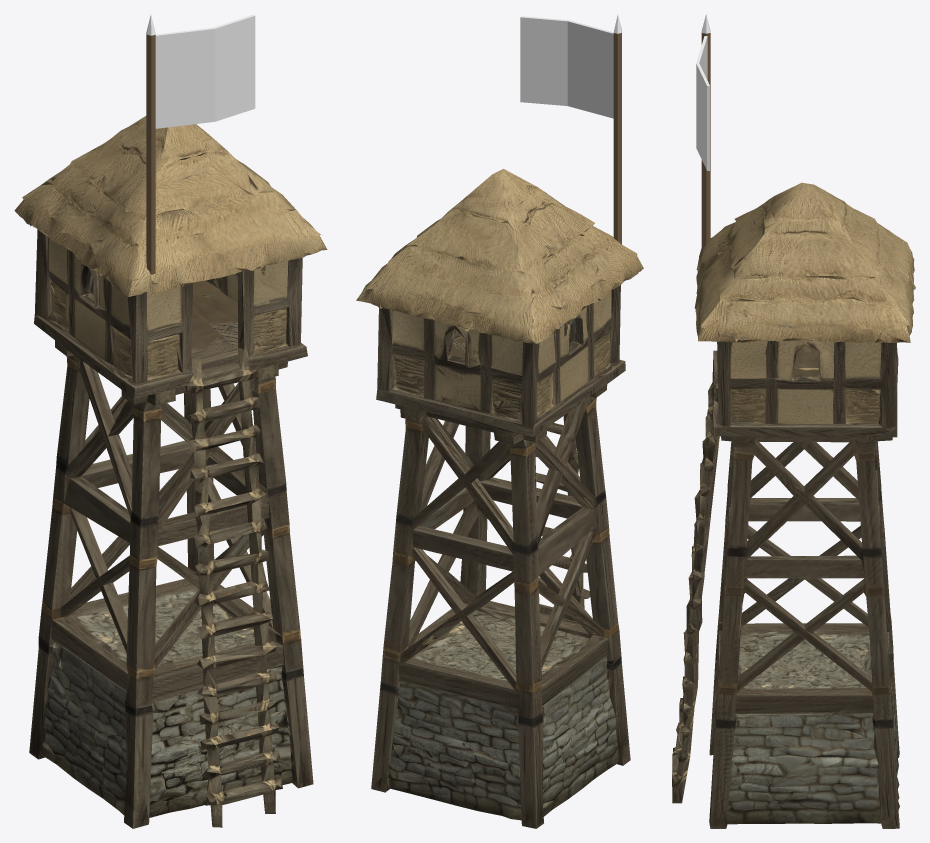
3 views of the same model, side by side, from view 1: azimuth 30°, elevation 25°; view 2: azimuth 150°, elevation 25°; view 3: azimuth 270°, elevation 25° (orthographic). The views are drawn at different scales.
Visible parts, largest first — view 1: watchtower, Team_banner; view 2: watchtower, Team_banner; view 3: watchtower, Team_banner.
Part boxes in pixels (x1,y1,x2,y2): watchtower: (14, 116, 327, 828); Team_banner: (146, 14, 255, 274); watchtower: (356, 169, 643, 828); Team_banner: (520, 14, 621, 244); watchtower: (672, 182, 915, 828); Team_banner: (696, 14, 710, 249).
Size of the model in its own units: 0.6185 by 2.33 by 0.6944.
Materials: 3 (1 with a texture image).
